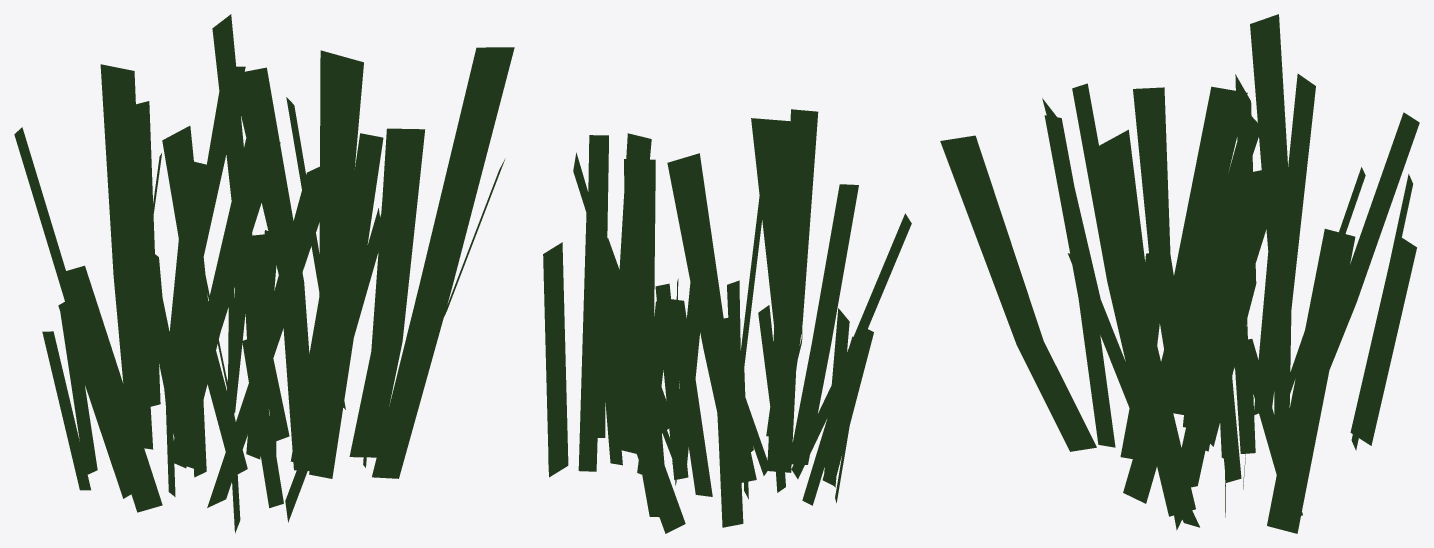
The model's file is FBX_Grass_1.fbx.
The picture shows the model from 3 angles, left to right: view 1: azimuth 30°, elevation 25°; view 2: azimuth 150°, elevation 25°; view 3: azimuth 270°, elevation 25°; orthographic projection. The views are drawn at different scales.
Parts seen in each view (by area): view 1: Grass; view 2: Grass; view 3: Grass.
Part boxes in pixels (box(x1,y1,x2,y2)): Grass: box(14, 14, 514, 533); Grass: box(543, 109, 911, 533); Grass: box(940, 14, 1419, 533).
Size of the model in its own units: 236 by 267 by 253.
